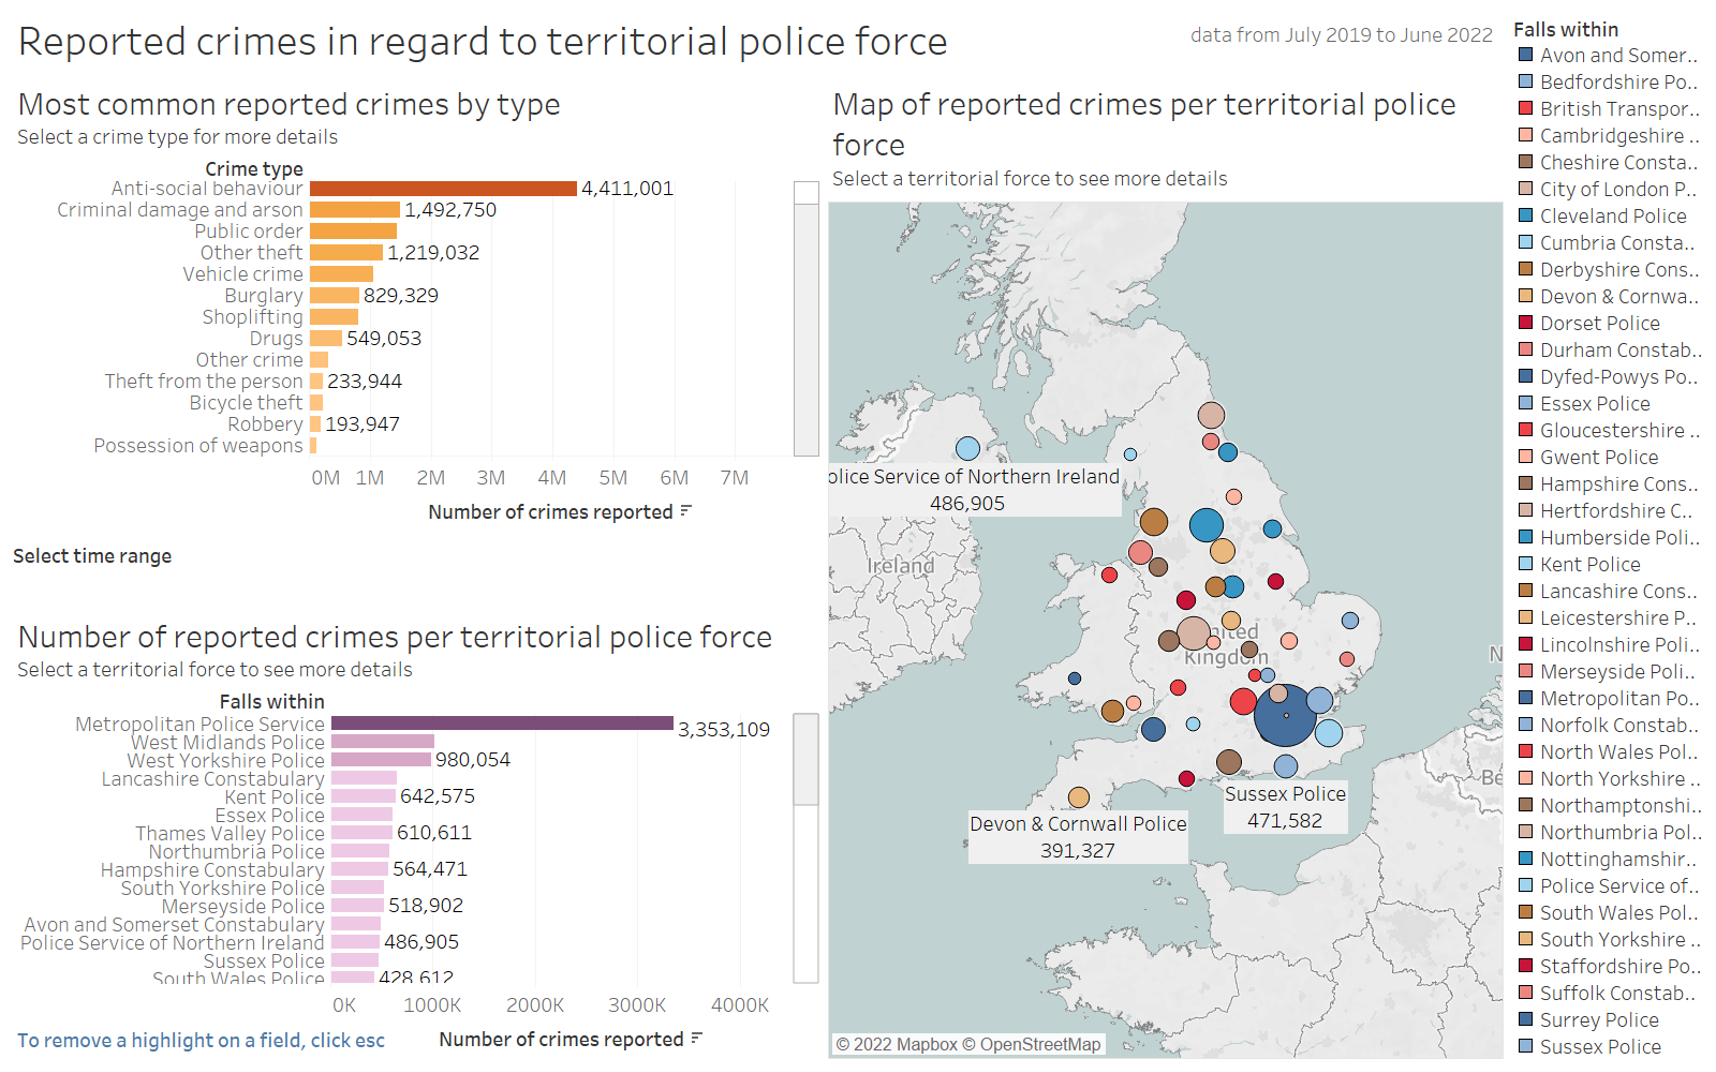

The page's visual inventory and layout, read from the dashboard file:
{"tool":"tableau","page":{"name":"Reported crimes in regard to territorial police force","canvas":[1600,1000],"ordinal":2},"visuals":[{"type":"title","box":[8,8,1398,58]},{"type":"legend","title":"Map of reported crimes per territorial police force","param":"[federated.10l3fp90vdy31r19o3p2i0rp7us6].[none:Falls within:nk]","box":[1406,8,186,984]},{"type":"text","box":[1106,17,291,30]},{"type":"worksheet","title":"Most common reported crimes by type","mark":"Automatic","rows":["Crime type"],"cols":["Fill number"],"box":[8,66,759.8,434]},{"type":"worksheet","title":"Map of reported crimes per territorial police force","mark":"Circle","rows":["Latitude"],"cols":["Longitude"],"box":[767.8,66,638.2,926]},{"type":"filter","title":"Number of reported crimes per territorial police force","param":"[federated.10l3fp90vdy31r19o3p2i0rp7us6].[none:Month:qk]","box":[8,500,759.8,63]},{"type":"worksheet","title":"Number of reported crimes per territorial police force","mark":"Bar","rows":["Falls within"],"cols":["Fill number"],"box":[8,563,759.8,429]},{"type":"text","box":[11.6,946.7,409.2,46.8]}]}

Visuals, with their boxes in screenshot pixels (x1, y1, x2, y2), scaled from the page's 1600x1000 canvas onto the 1716x1072 screenshot:
title: x1=9, y1=9, x2=1508, y2=71
"Map of reported crimes per territorial police force" legend: x1=1508, y1=9, x2=1707, y2=1063
text: x1=1186, y1=18, x2=1498, y2=50
"Most common reported crimes by type" worksheet: x1=9, y1=71, x2=823, y2=536
"Map of reported crimes per territorial police force" worksheet (Circle marks): x1=823, y1=71, x2=1508, y2=1063
"Number of reported crimes per territorial police force" filter: x1=9, y1=536, x2=823, y2=604
"Number of reported crimes per territorial police force" worksheet (Bar marks): x1=9, y1=604, x2=823, y2=1063
text: x1=12, y1=1015, x2=451, y2=1065
